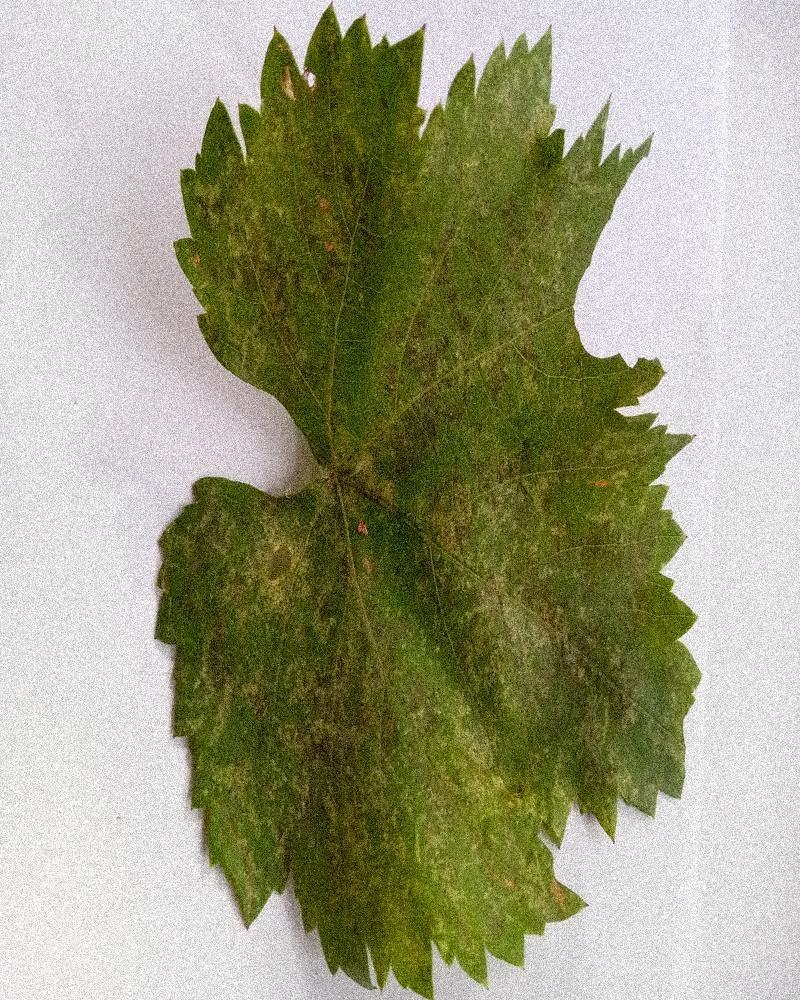Powdery-Mildew: (472, 543, 614, 700), (410, 696, 531, 850), (581, 421, 671, 550), (456, 53, 551, 166), (240, 520, 316, 625), (258, 53, 321, 116), (282, 202, 345, 265)
